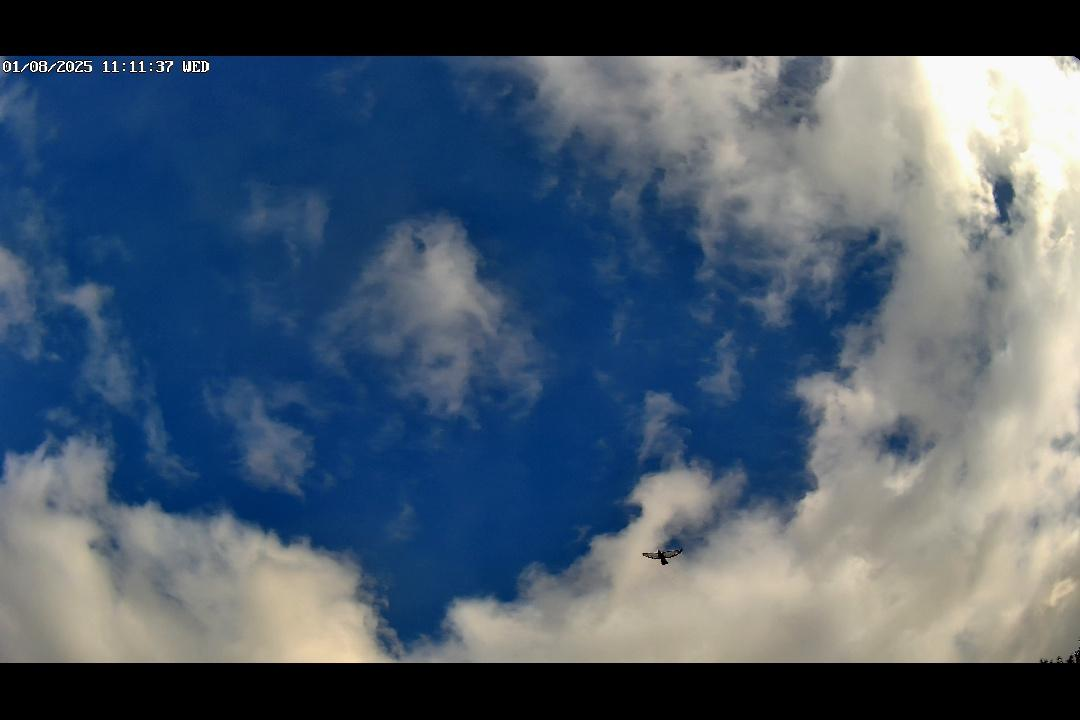WildLife: (629, 541, 696, 574)
